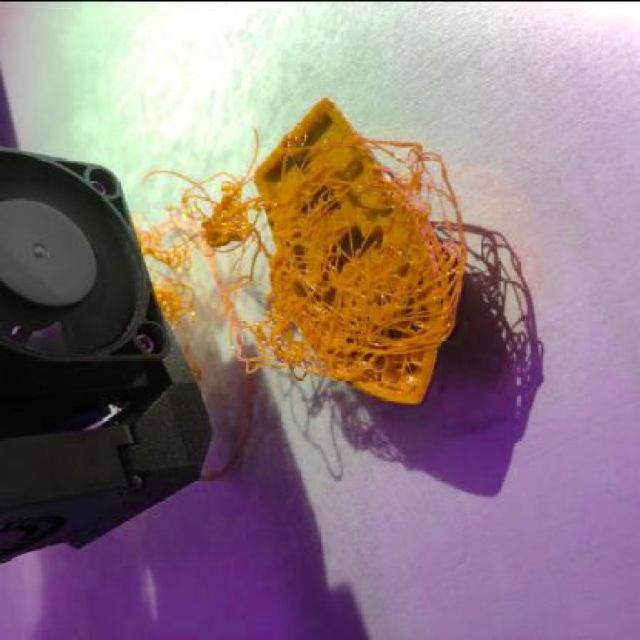Spaghetti: (134, 127, 466, 381)
